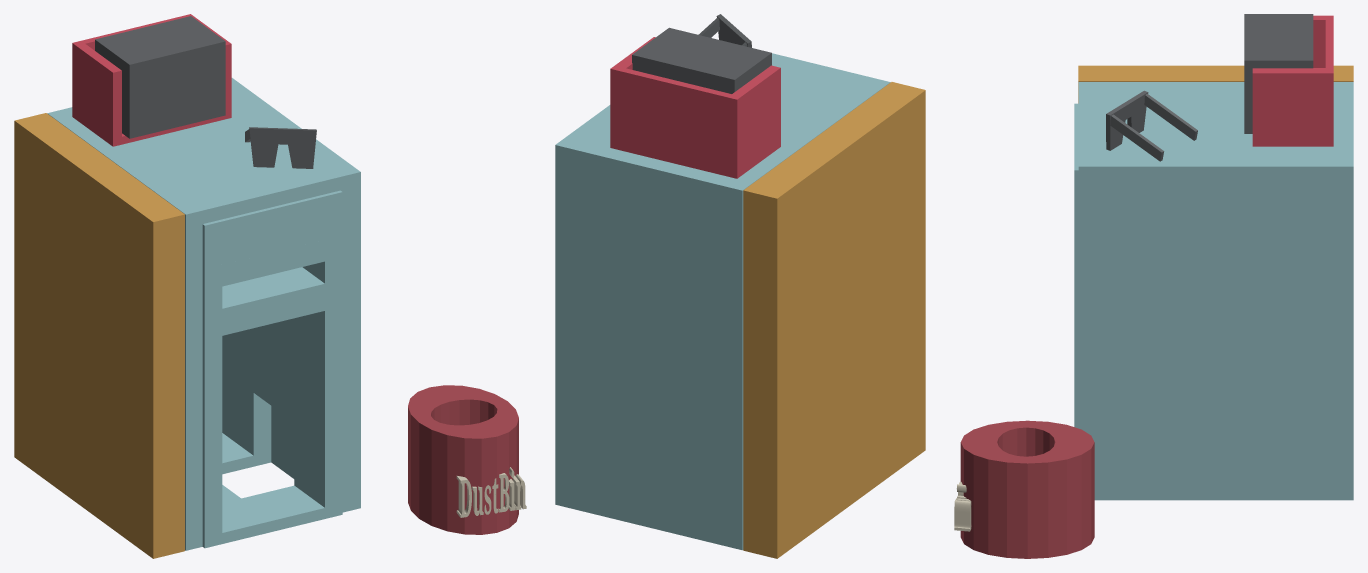
Rendered from Study table.glb.
The picture shows the model from 3 angles, left to right: view 1: azimuth 30°, elevation 25°; view 2: azimuth 150°, elevation 25°; view 3: azimuth 270°, elevation 25°; orthographic projection. The views are drawn at different scales.
Parts seen in each view (by area): view 1: Mesh_Mesh_head_geo.001_lambert2SG.001; view 2: Mesh_Mesh_head_geo.001_lambert2SG.001; view 3: Mesh_Mesh_head_geo.001_lambert2SG.001.
Part boxes in pixels (x1,y1,x2,y2): Mesh_Mesh_head_geo.001_lambert2SG.001: [14, 14, 526, 558]; Mesh_Mesh_head_geo.001_lambert2SG.001: [555, 14, 925, 558]; Mesh_Mesh_head_geo.001_lambert2SG.001: [954, 14, 1353, 558].
Bounding box in the file's own units: 93 × 113 × 98.63.
